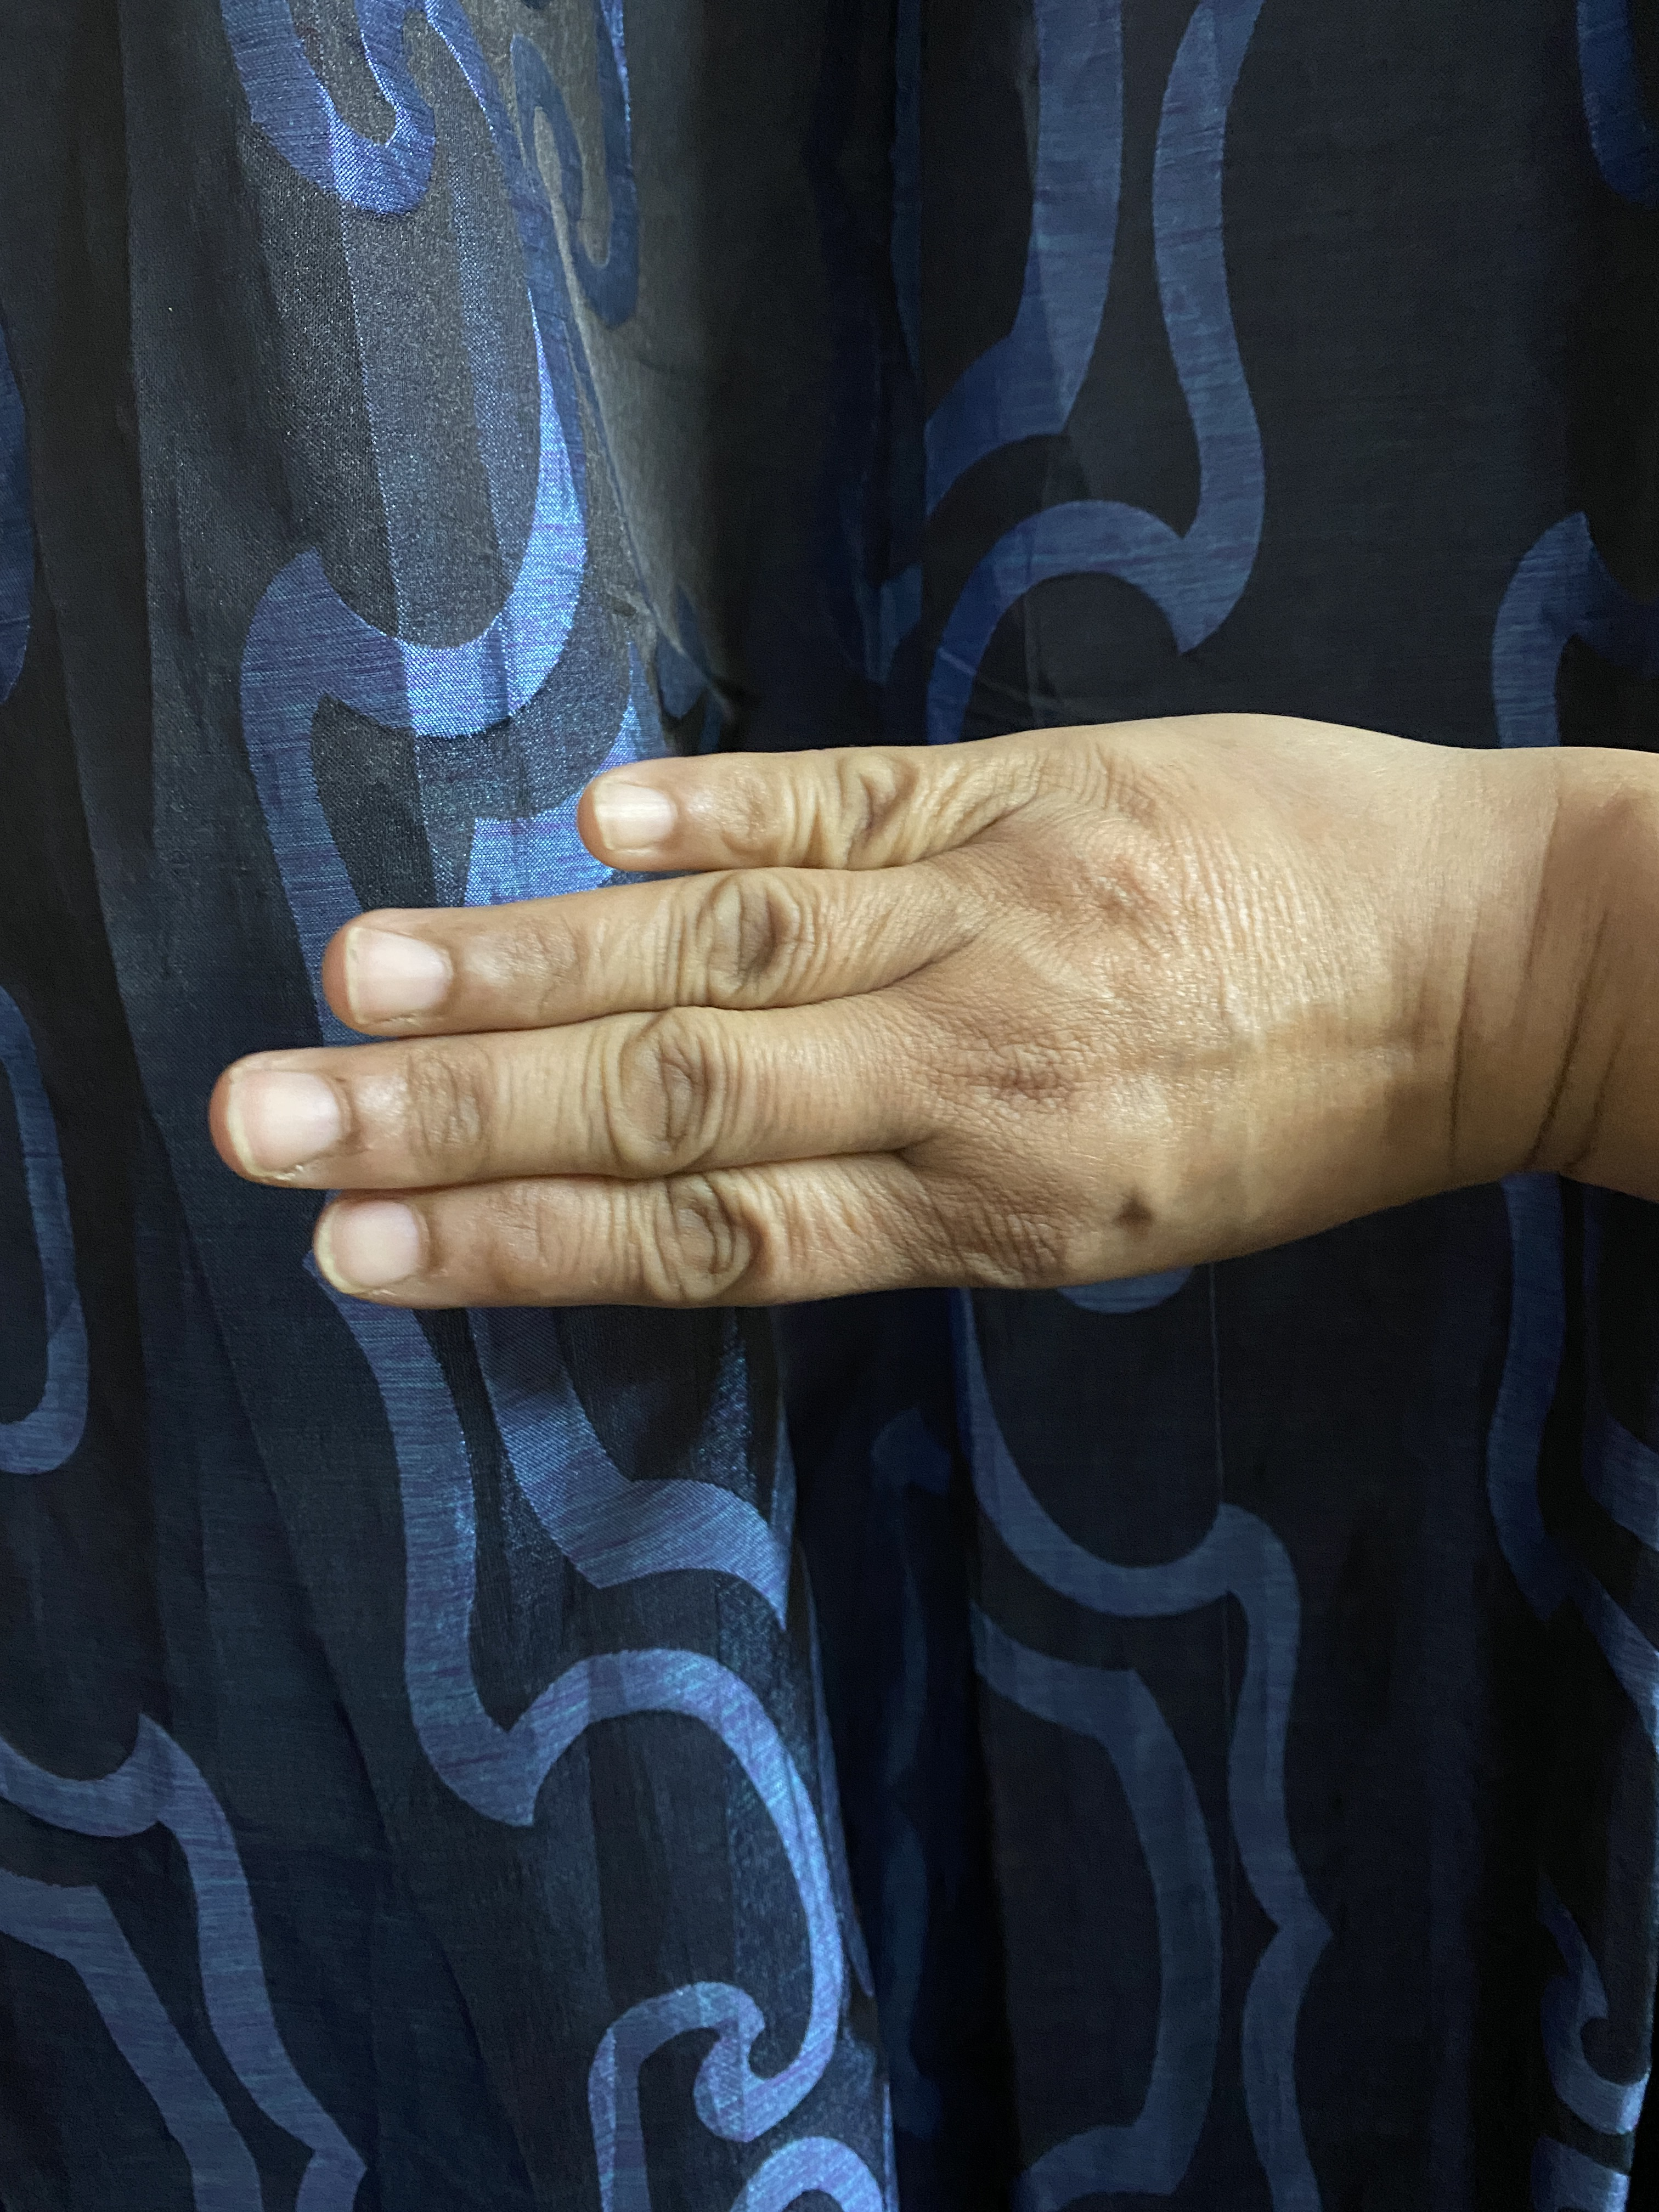right: (169, 439, 1659, 1371)
